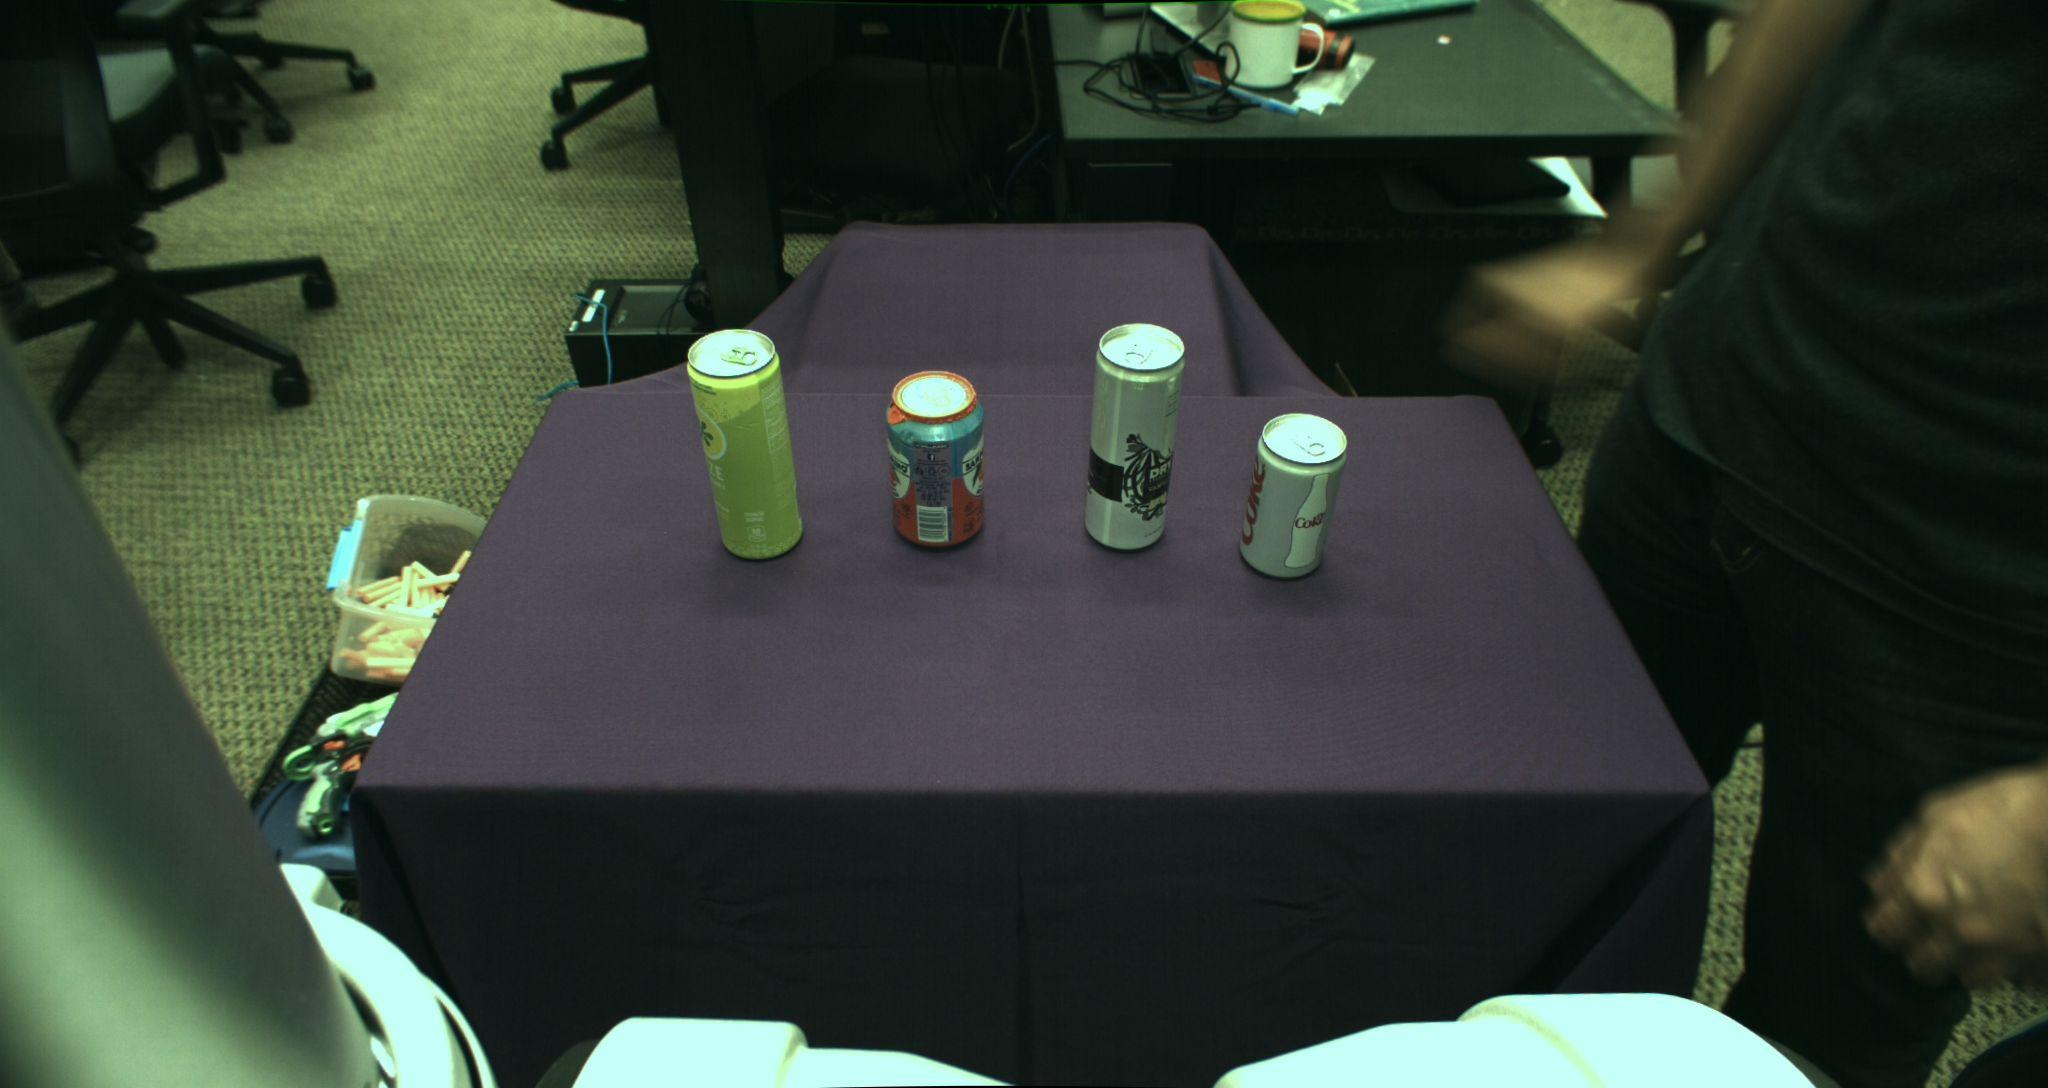can_diet_coke_small: (1237, 411, 1348, 580)
can_dry_sparkling_vanilla_bean: (1085, 321, 1185, 551)
can_izze_fusions_lemon_lime: (685, 329, 801, 560)
can_sanpellegrino_blood_orange: (886, 369, 987, 547)
